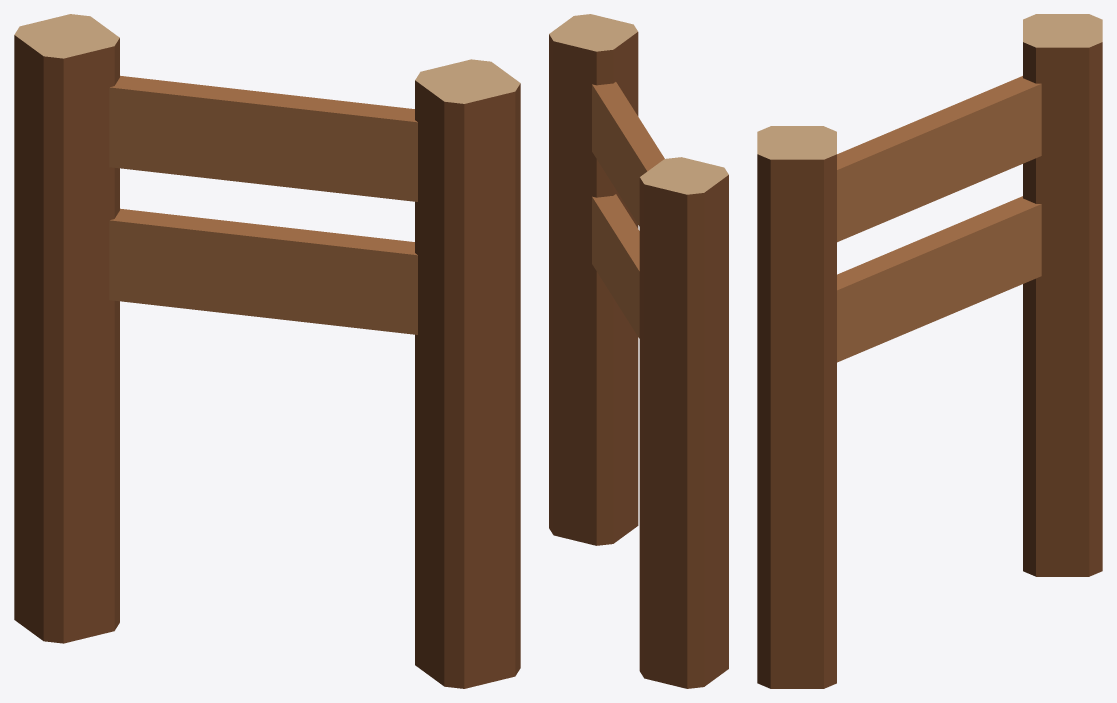
File: Prop_Decorative_Fence_Curve_1x1.obj
3 renders of one model, left to right at view 1: azimuth 30°, elevation 25°; view 2: azimuth 150°, elevation 25°; view 3: azimuth 270°, elevation 25°, orthographic. The views are drawn at different scales.
Parts seen in each view (by area): view 1: Fence_Post_Side, Fence_Rail, Fence_Post_Top; view 2: Fence_Post_Side, Fence_Rail, Fence_Post_Top; view 3: Fence_Post_Side, Fence_Rail, Fence_Post_Top.
Part boxes in pixels (x1=…): Fence_Post_Side: x1=14, y1=35, x2=520, y2=688; Fence_Rail: x1=109, y1=75, x2=417, y2=334; Fence_Post_Top: x1=14, y1=14, x2=520, y2=103; Fence_Post_Side: x1=549, y1=32, x2=728, y2=688; Fence_Rail: x1=592, y1=82, x2=664, y2=338; Fence_Post_Top: x1=549, y1=14, x2=728, y2=194; Fence_Post_Side: x1=757, y1=42, x2=1102, y2=688; Fence_Rail: x1=837, y1=76, x2=1041, y2=362; Fence_Post_Top: x1=757, y1=14, x2=1102, y2=159.
Size of the model in its own units: 0.65 by 1.1 by 0.65.
